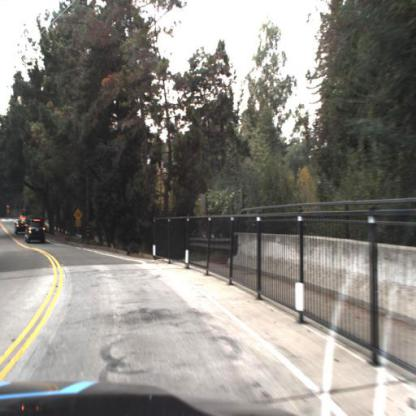car: (24, 219, 47, 245), (15, 218, 25, 236)
